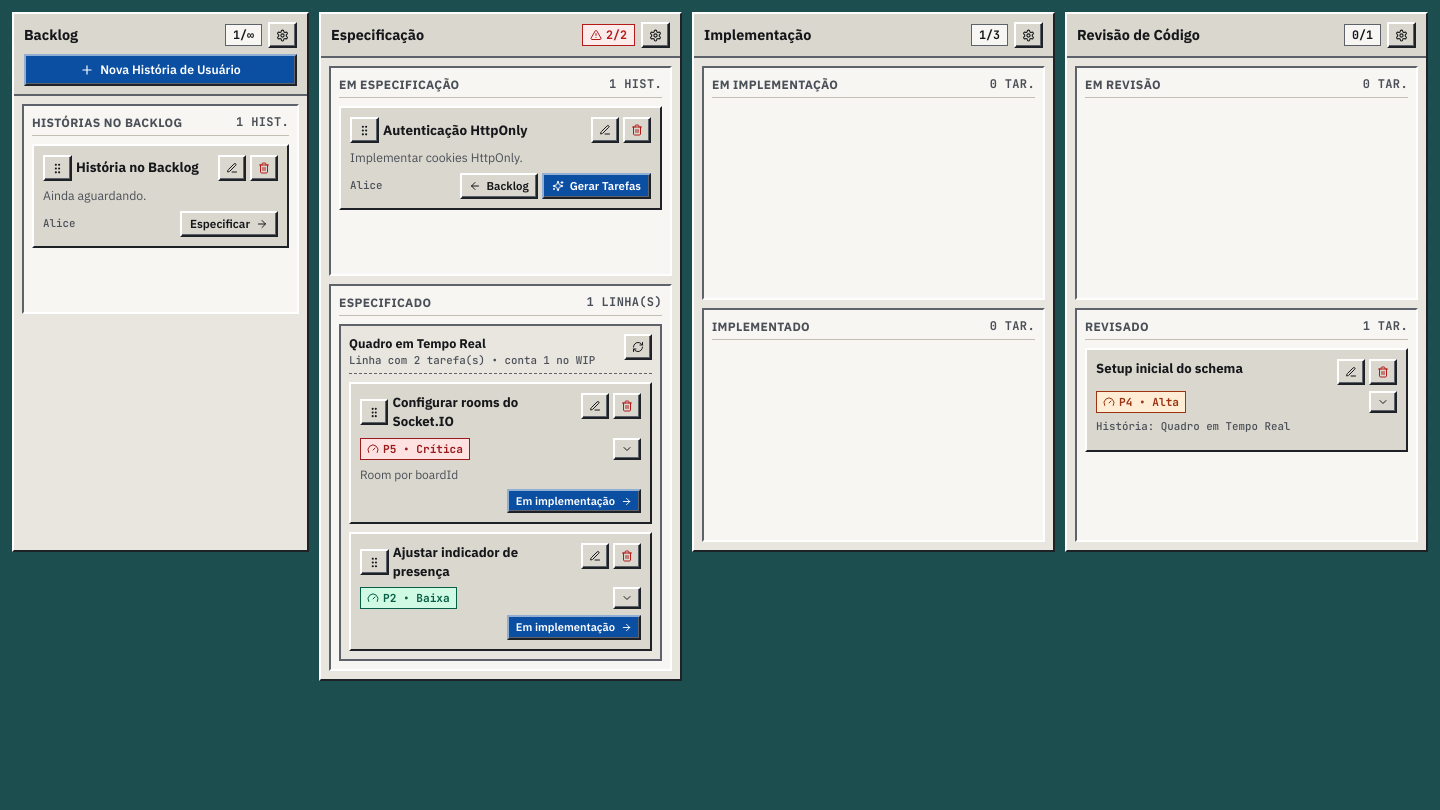
Test: KanbanBoardView › expande critérios da classificação Gemini Decisions ao clicar no botão de detalhes do badge
The width and height of the screenshot is (1440, 810).
Click the button named "Ver critérios da classificação" next to "Crítica". click: (627, 449)
box: x1=613 y1=438 x2=641 y2=460
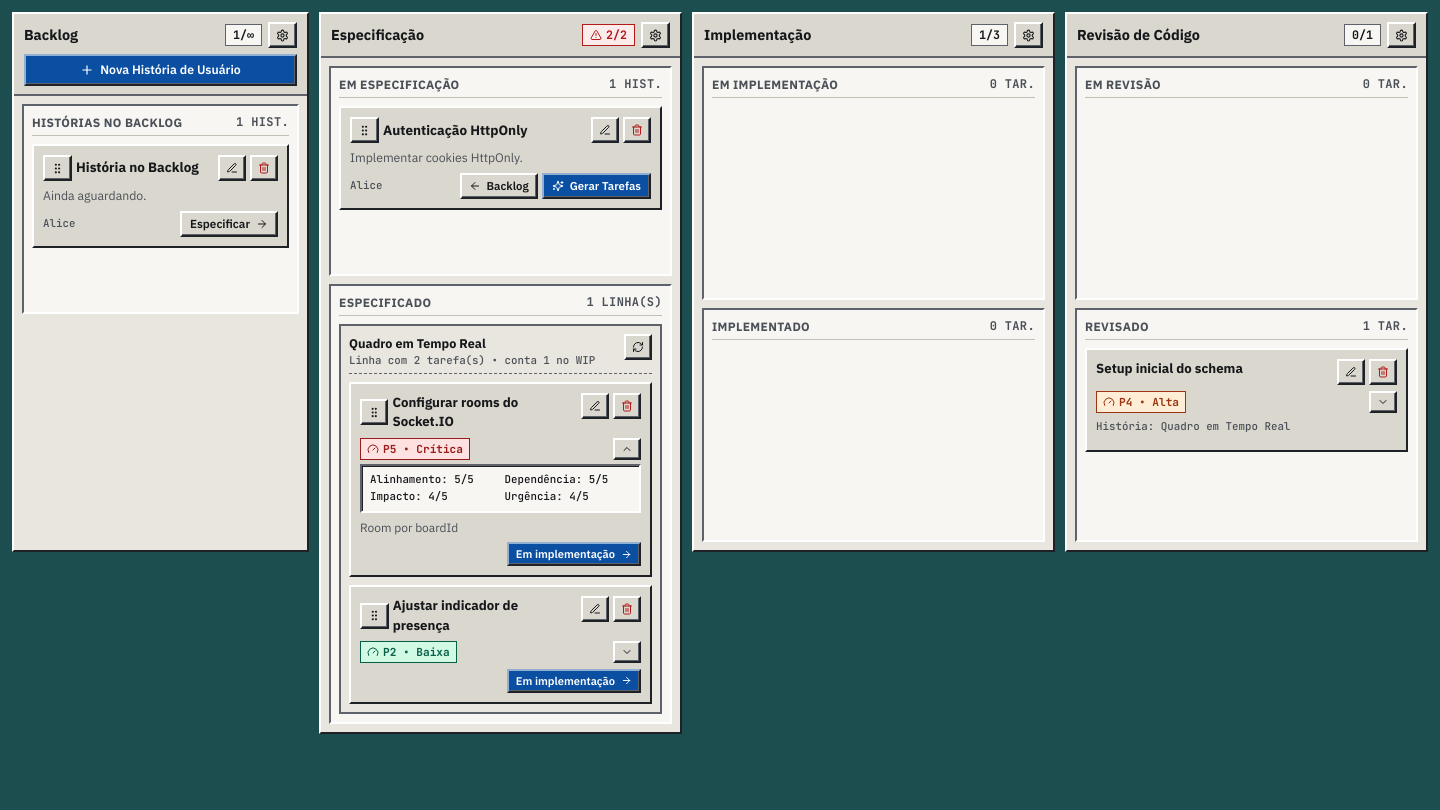
Now the text "Alinhamento: 5/5" is shown, box x1=370 y1=472 x2=474 y2=486
Now the text "Dependência: 5/5" is shown, box x1=504 y1=472 x2=608 y2=486
Now the text "Impacto: 4/5" is shown, box x1=370 y1=489 x2=448 y2=503
